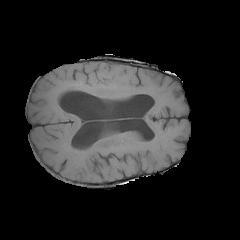glioma: (53, 82, 158, 107)
